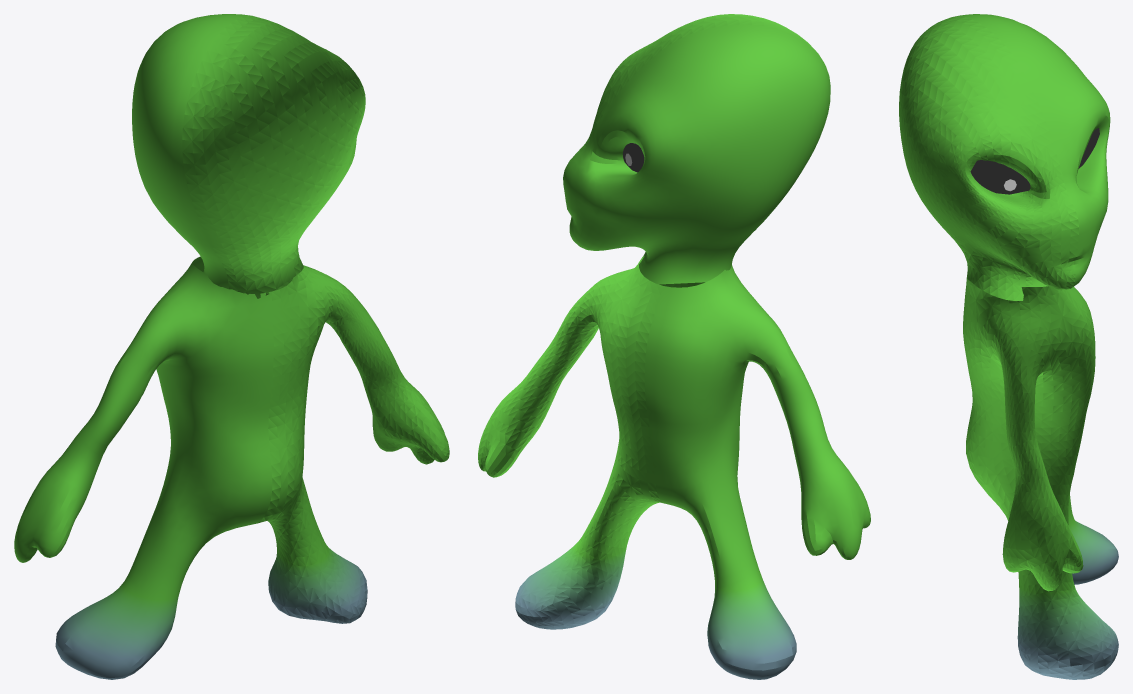
Rendered from alien_animated.FBX.
3 renders of one model, left to right at view 1: azimuth 30°, elevation 25°; view 2: azimuth 150°, elevation 25°; view 3: azimuth 270°, elevation 25°, orthographic. The views are drawn at different scales.
Parts seen in each view (by area): view 1: Alien_body, Group1; view 2: Alien_body, Group1; view 3: Group1, Alien_body, Circle001.
Boxes of the visible parts, x1,y1,x2,y2 form: Alien_body: (14, 256, 449, 679); Group1: (132, 14, 365, 298); Alien_body: (478, 256, 870, 679); Group1: (563, 14, 830, 284); Group1: (899, 14, 1110, 300); Alien_body: (963, 277, 1118, 679); Circle001: (970, 128, 1099, 194).
Bounding box in the file's own units: 9.71 × 14.63 × 4.98.
Materials: 1 (1 with a texture image).
